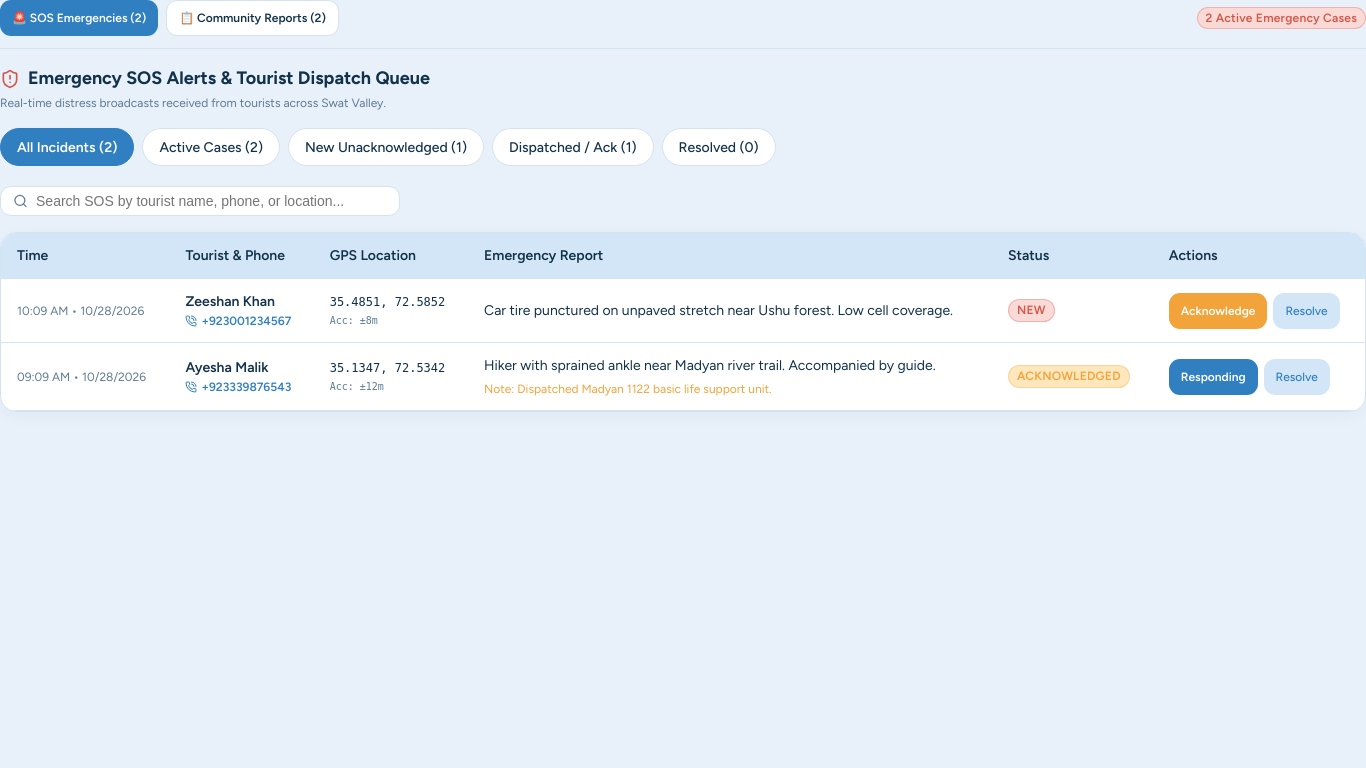
Step 6: Safety, Advisories, Road Status, and Emergency SOS › renders Authority Cases tab with SOS events and allows acknowledging/resolving
Expected: the heading "Emergency SOS Alerts & Tourist Dispatch Queue" is shown, [0,65,430,92]
Expected: the text "Zeeshan Khan" is shown, [185,293,275,310]
Acknowledge the new SOS event
Click the button with test id "btn-ack-sos-sos-demo-1".
click(1218, 310)  # box [1169,292,1267,328]
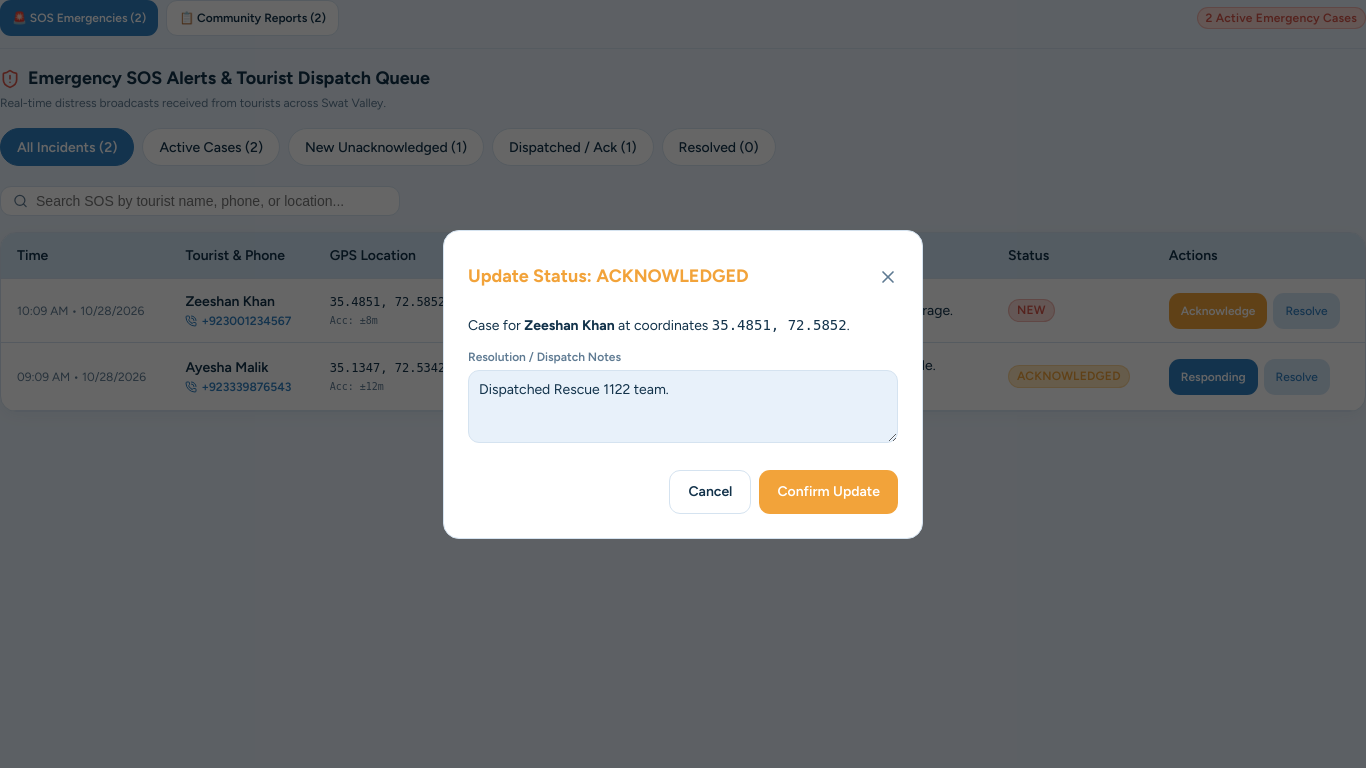
Expected: the element with test id "modal-sos-action" is shown
Replace the text in the text box with test id "input-sos-action-note" with "Dispatched Ushu rescue 1122 team." at (683, 406), box [468,370,898,442]
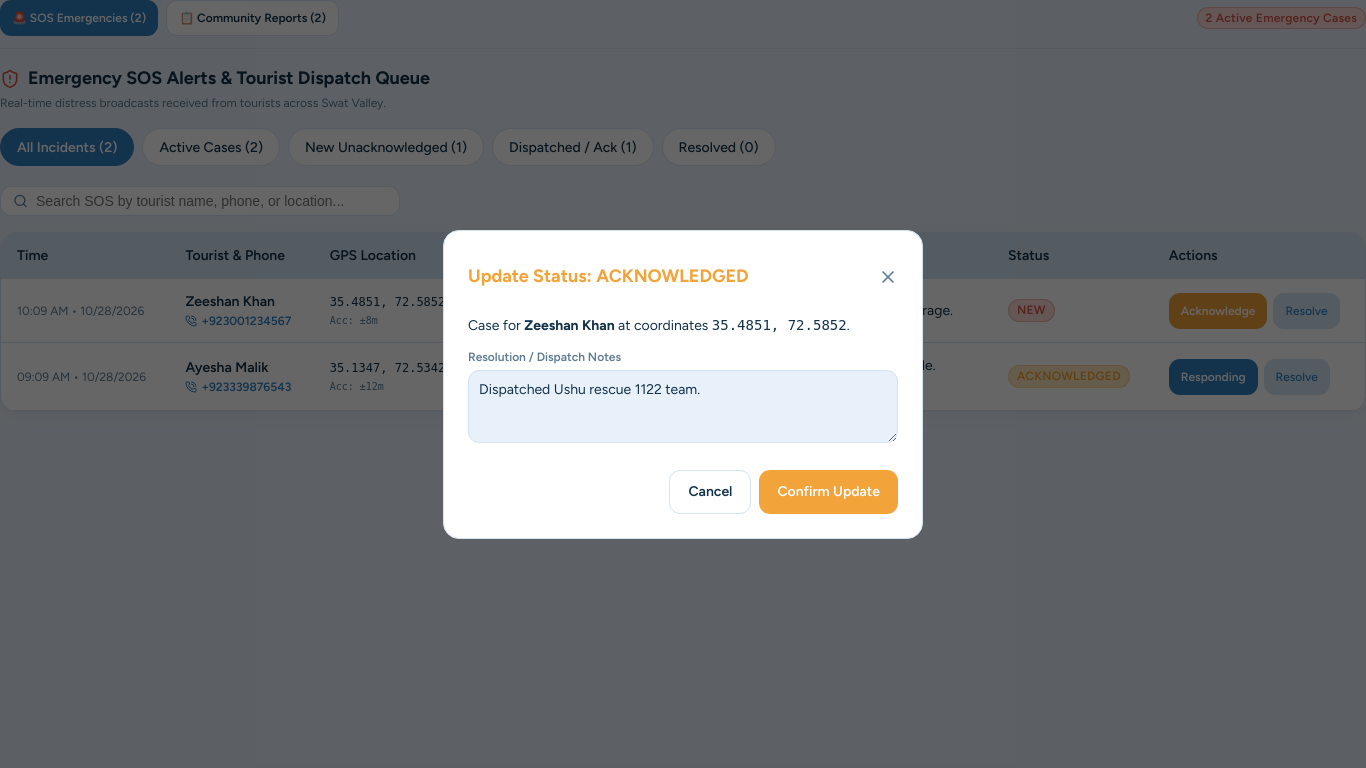
Click the button with test id "btn-confirm-sos-action".
click(829, 492)  # box [759,470,898,514]
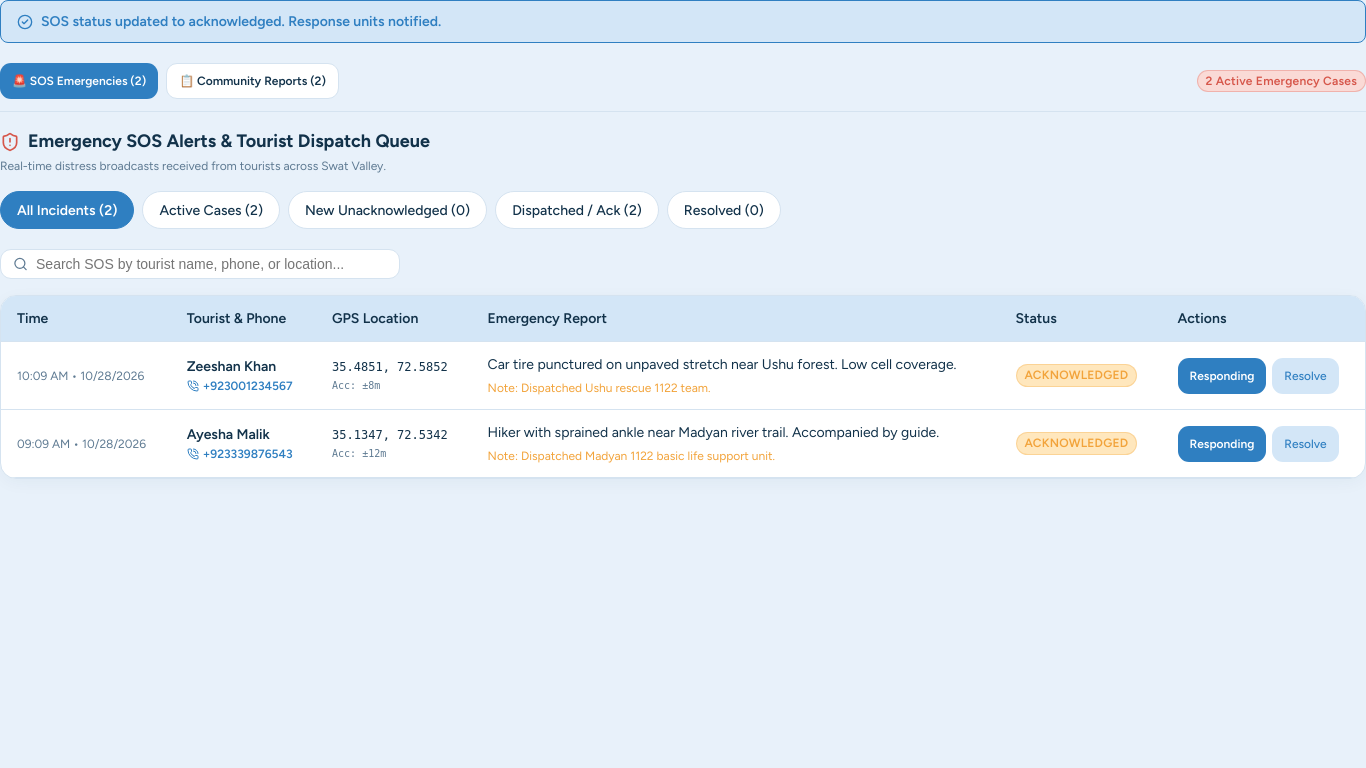
Expected: the text "SOS status updated to acknowledged. Response units notified." is shown, [0,0,1365,43]
